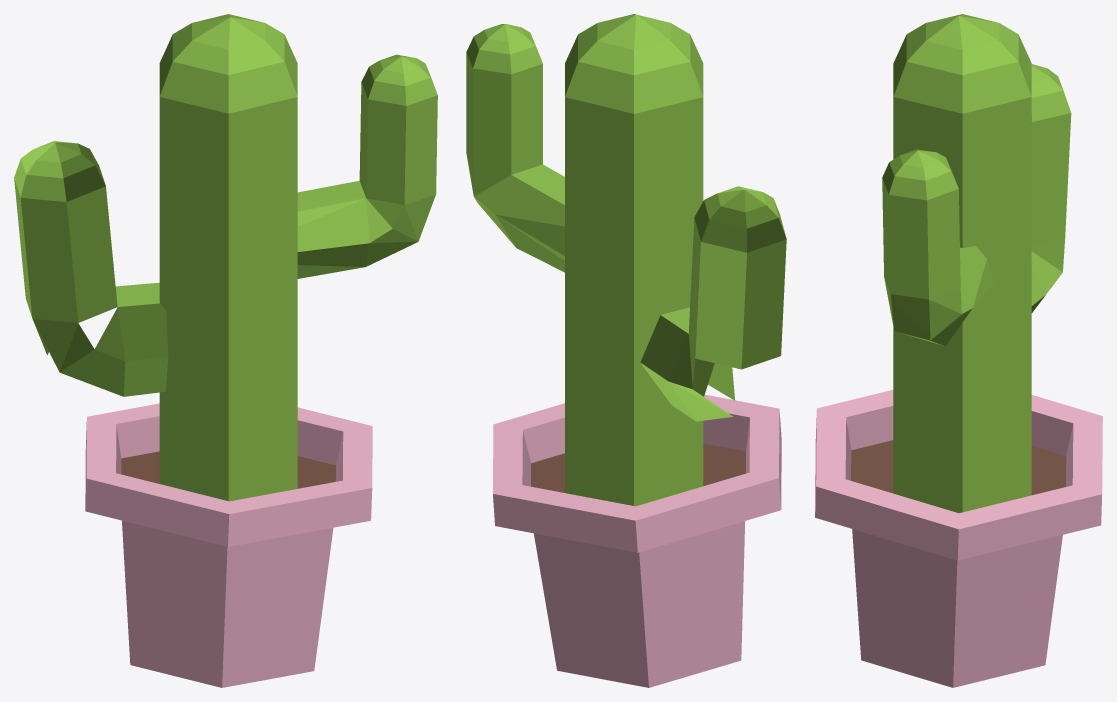
File: Succulent 02.glb
The picture shows the model from 3 angles, left to right: view 1: azimuth 30°, elevation 25°; view 2: azimuth 150°, elevation 25°; view 3: azimuth 270°, elevation 25°; orthographic projection.
Parts seen in each view (by area): view 1: Node; view 2: Node; view 3: Node.
Part boxes in pixels (x1,y1,x2,y2): Node: [14, 14, 437, 687]; Node: [466, 14, 786, 687]; Node: [815, 14, 1102, 687].
Bounding box in the file's own units: 0.2379 × 0.3935 × 0.1623.
